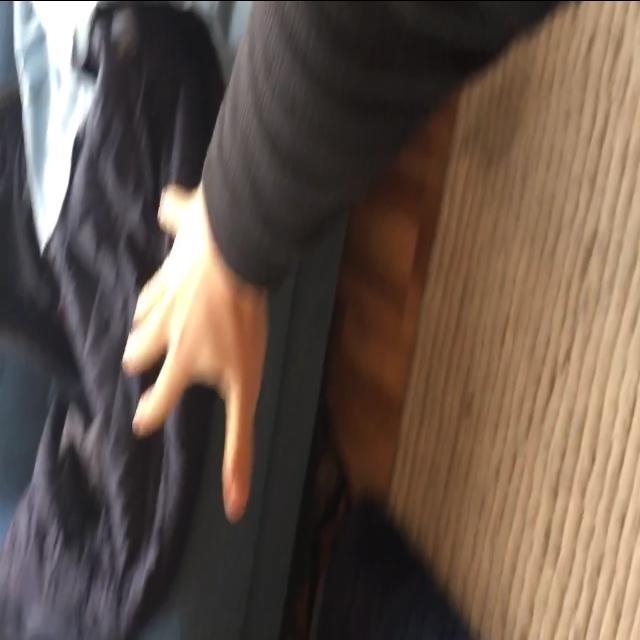Paper: (120, 181, 268, 519)
